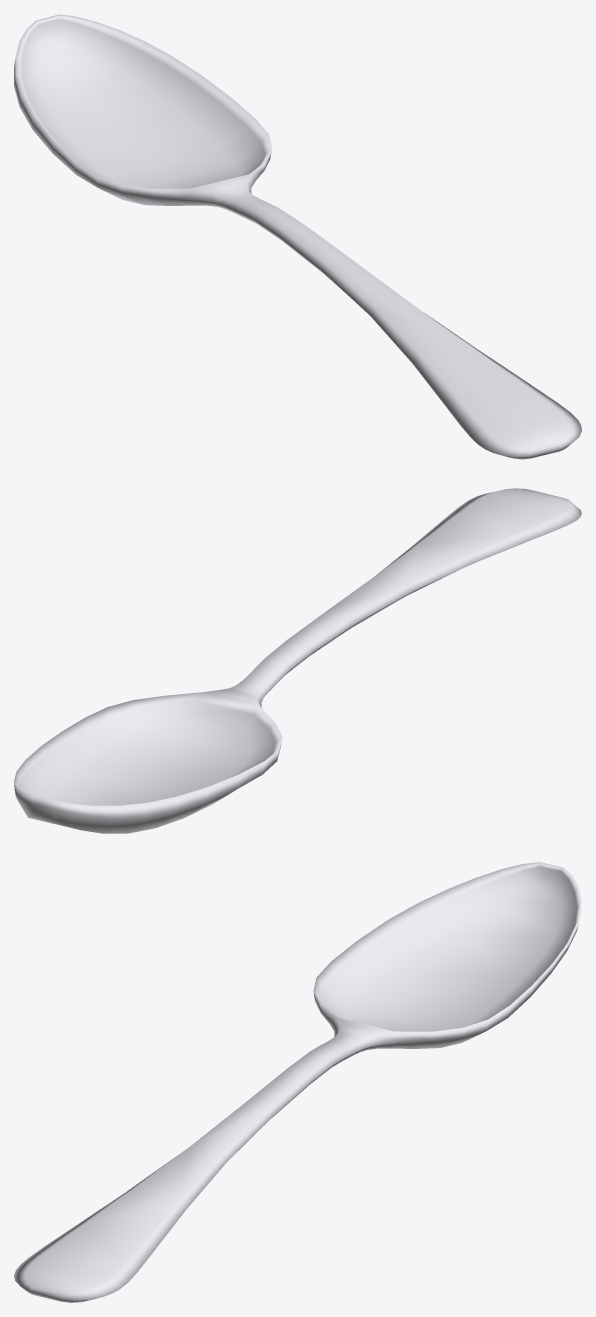
Rendered from Dining_Spoon.fbx.
3 renders of one model, top to bottom at view 1: azimuth 30°, elevation 25°; view 2: azimuth 150°, elevation 25°; view 3: azimuth 330°, elevation 25°, orthographic.
Visible parts, largest first — view 1: Spoon_LOD_0; view 2: Spoon_LOD_0; view 3: Spoon_LOD_0.
Part boxes in pixels (bbox=[...]): Spoon_LOD_0: bbox=[14, 14, 581, 459]; Spoon_LOD_0: bbox=[14, 488, 581, 833]; Spoon_LOD_0: bbox=[14, 862, 581, 1302].
Size of what is drawn, in the model's own units: 3.41 by 1.27 by 16.55.
